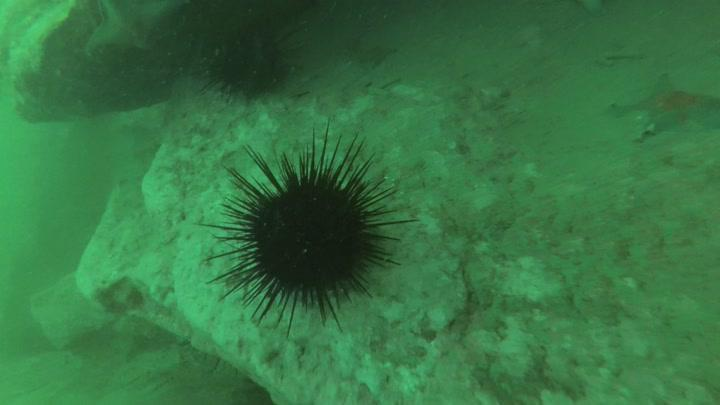urchin: (209, 118, 416, 328), (177, 12, 295, 100)
